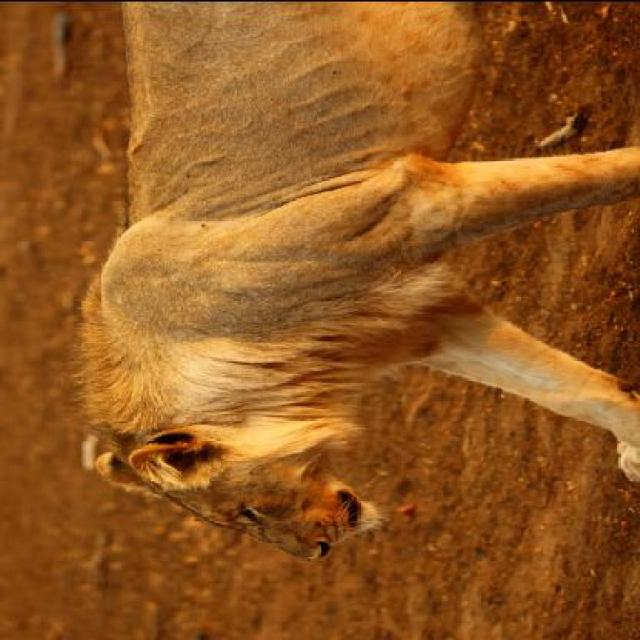Lion: (64, 0, 638, 569)
